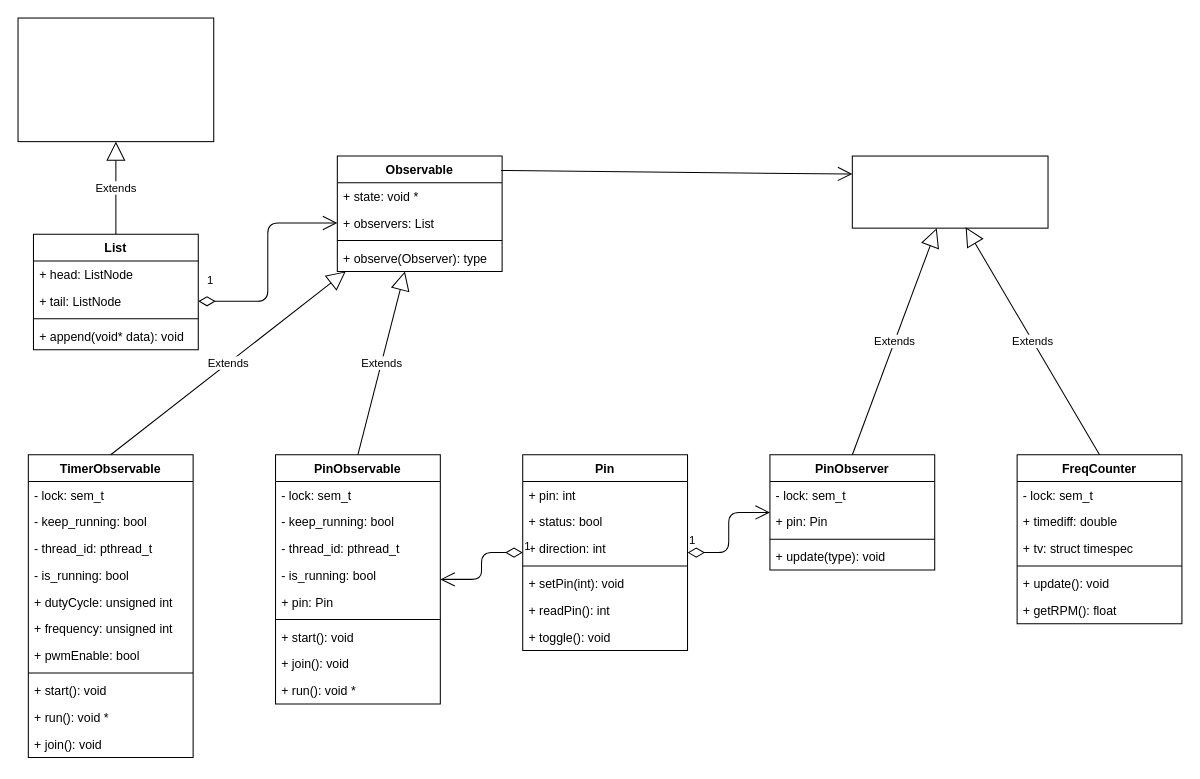
This 1200x779 diagram has some shape labels left out. Here are the shapes that lost their labels. From the top down, the centre of each, then its label:
the point at 115,79: Iterator + state: void * + next(): void + get_item(): void *data
the point at 949,191: Observer + update(): void
